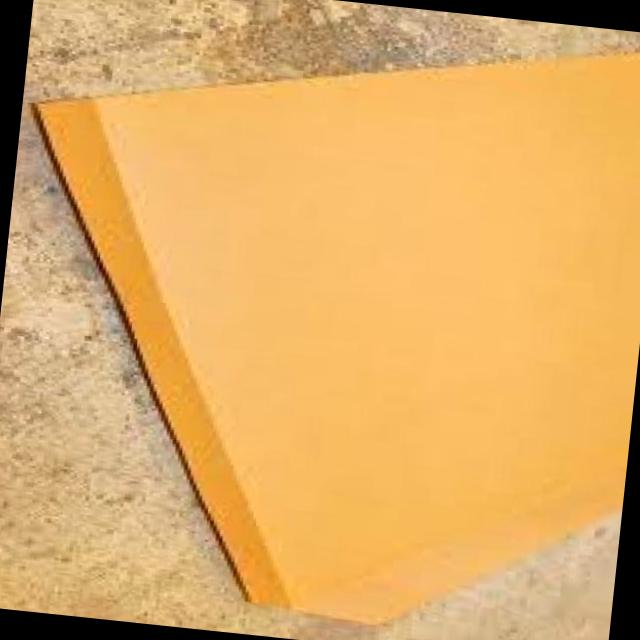cardboard paper: (38, 53, 640, 620)
